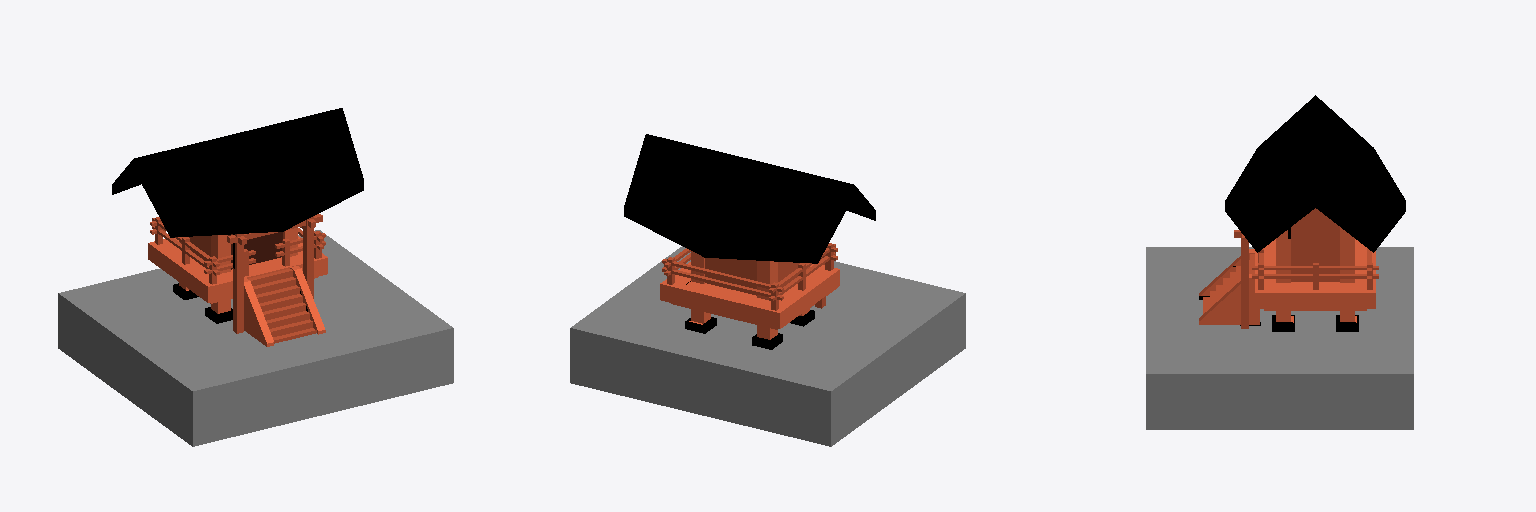
3 renders of one model, left to right at view 1: azimuth 30°, elevation 25°; view 2: azimuth 150°, elevation 25°; view 3: azimuth 270°, elevation 25°, orthographic.
Visible parts, largest first — view 1: 本体; view 2: 本体; view 3: 本体.
Boxes of the visible parts, box(x1,y1,x2,y2) form: 本体: box(58, 108, 453, 446); 本体: box(570, 134, 965, 446); 本体: box(1146, 95, 1413, 429).
Bounding box in the file's own units: 10 × 8.05 × 8.92.
1 materials, 1 textured.